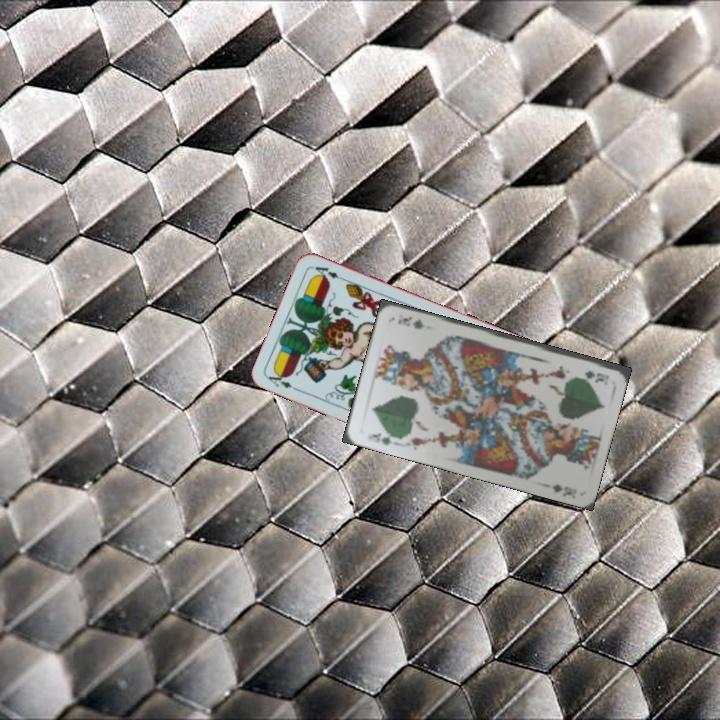EA: (264, 368, 303, 394)
GK: (363, 429, 400, 448), (581, 366, 611, 385)
